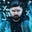Face: (9, 3, 24, 20)
